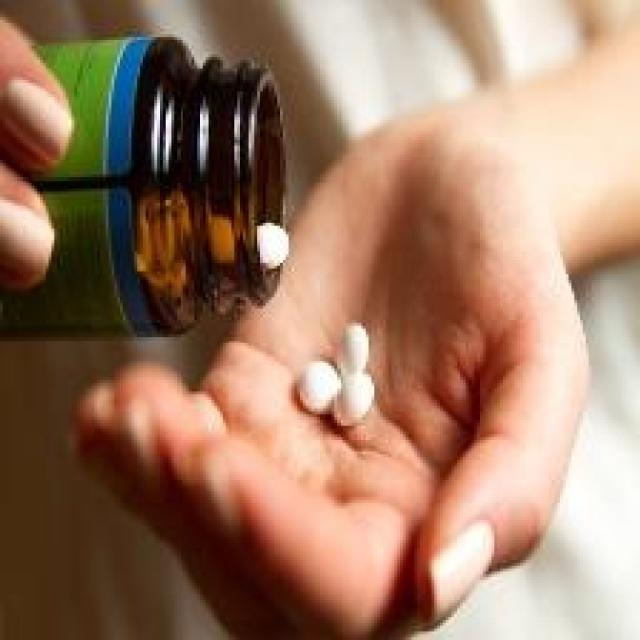Medicine: (78, 66, 438, 439)
